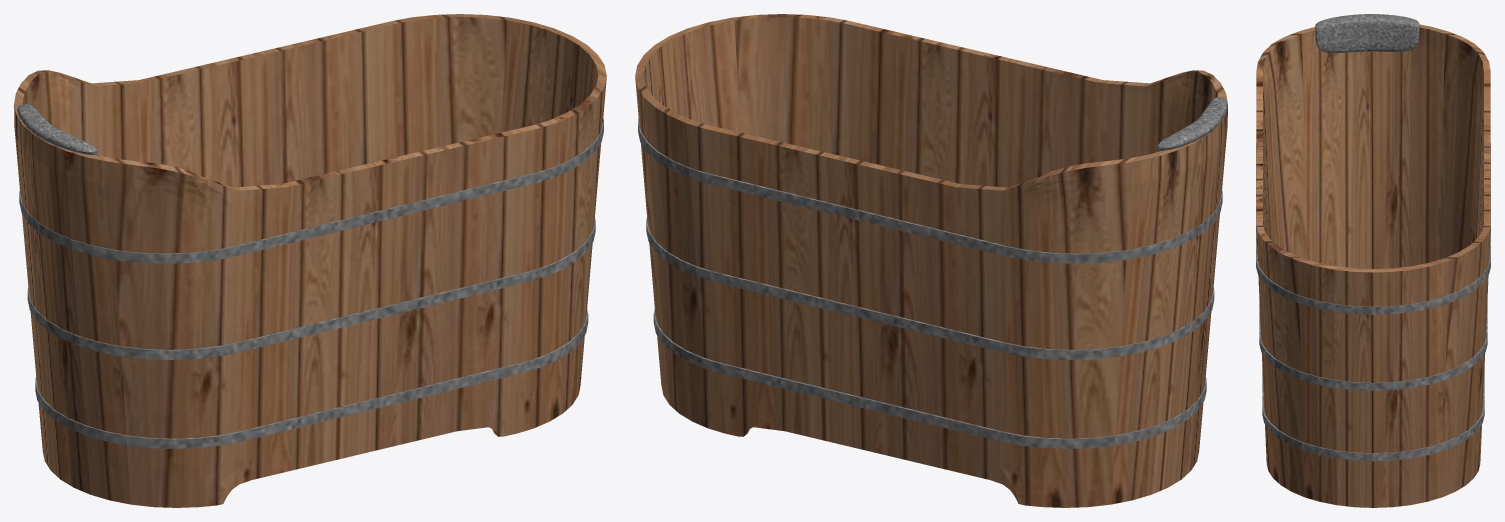
Rendered from Bathtub.glb.
The picture shows the model from 3 angles, left to right: view 1: azimuth 30°, elevation 25°; view 2: azimuth 150°, elevation 25°; view 3: azimuth 270°, elevation 25°; orthographic projection. The views are drawn at different scales.
Parts seen in each view (by area): view 1: Bathtub; view 2: Bathtub; view 3: Bathtub.
Part boxes in pixels (x1,y1,x2,y2): Bathtub: (14, 14, 606, 507); Bathtub: (635, 14, 1227, 507); Bathtub: (1256, 14, 1490, 507).
Bounding box in the file's own units: 0.0197 × 0.0122 × 0.00903.
Materials: 1 (1 with a texture image).
